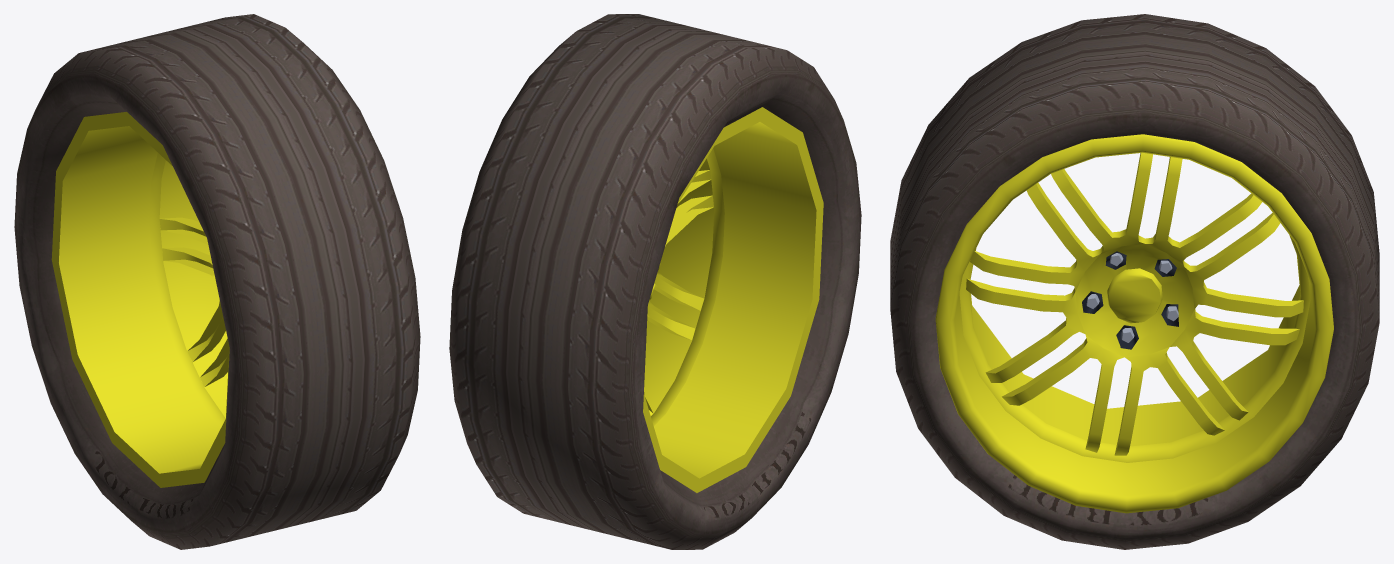
Rendered from kart_frontwheel.obj.
The picture shows the model from 3 angles, left to right: view 1: azimuth 30°, elevation 25°; view 2: azimuth 150°, elevation 25°; view 3: azimuth 270°, elevation 25°; orthographic projection.
Visible parts, largest first — view 1: kart_frontwheel; view 2: kart_frontwheel; view 3: kart_frontwheel.
Part boxes in pixels (x1,y1,x2,y2): kart_frontwheel: [14, 14, 420, 549]; kart_frontwheel: [449, 14, 861, 549]; kart_frontwheel: [890, 14, 1379, 549].
Size of the model in its own units: 0.0793 by 0.192 by 0.1831.
3 materials, 3 textured.
